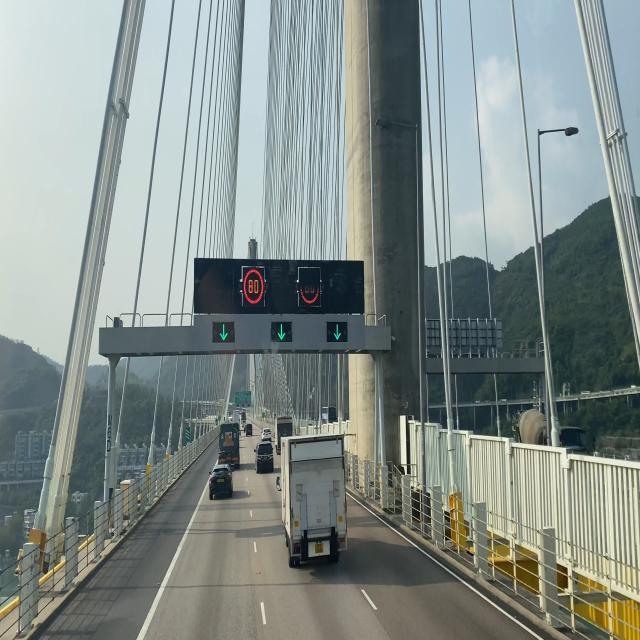Car: (278, 434, 350, 574), (205, 458, 237, 503), (218, 418, 243, 470), (252, 441, 275, 478)
